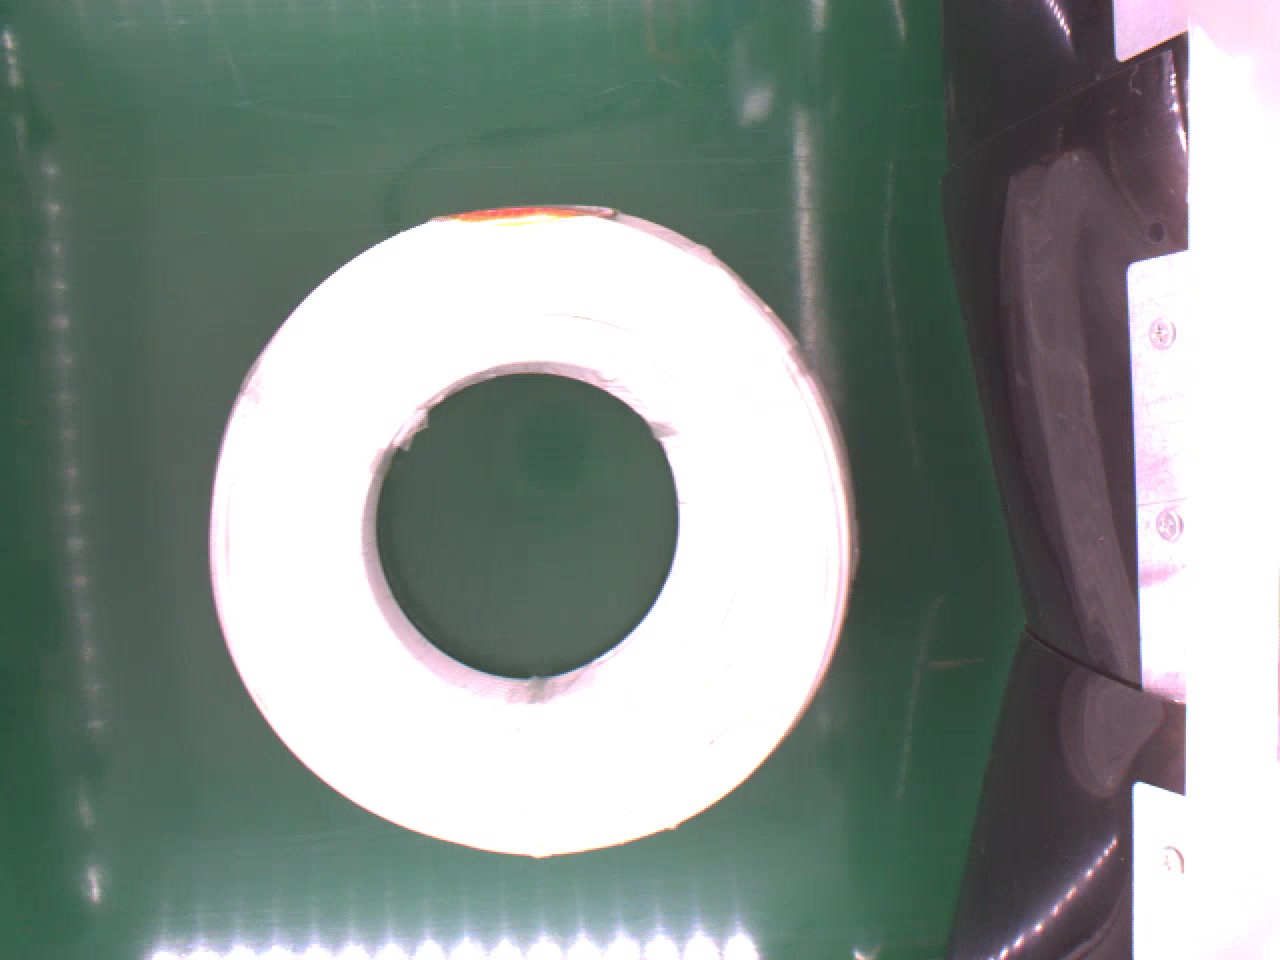white: (196, 196, 865, 865)
